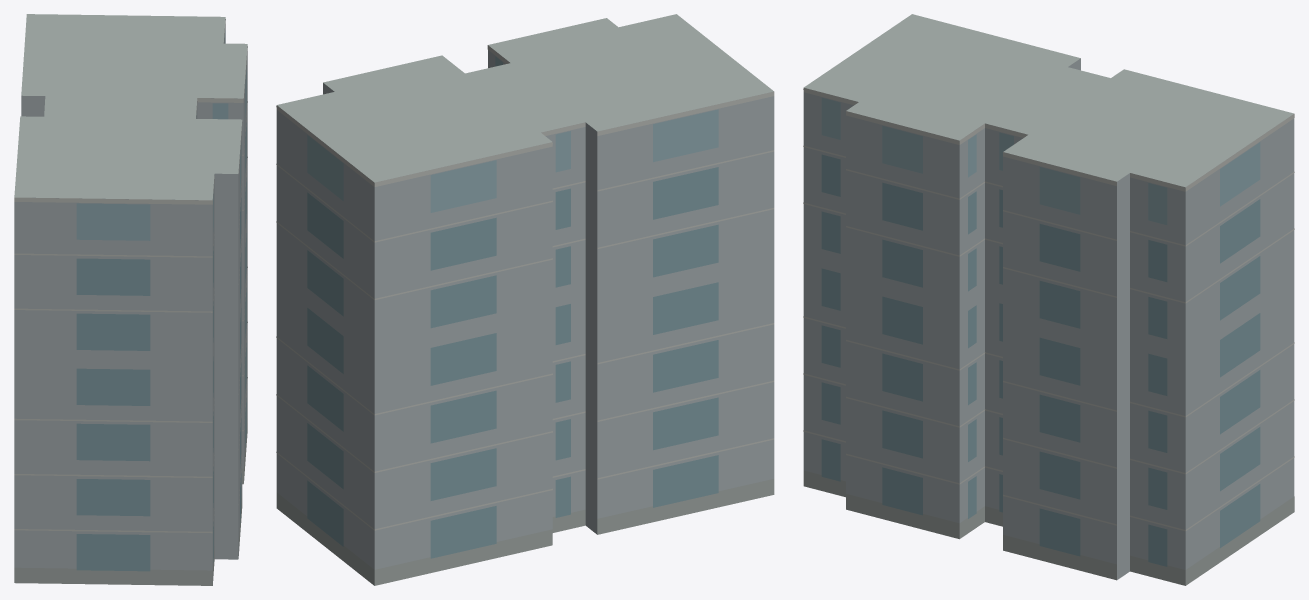
Rendered from survey-upis-32788299.glb.
3 views of the same model, side by side, from view 1: azimuth 30°, elevation 25°; view 2: azimuth 150°, elevation 25°; view 3: azimuth 270°, elevation 25° (orthographic). The views are drawn at different scales.
Visible parts, largest first — view 1: survey-upis-32788299.tmp; view 2: survey-upis-32788299.tmp; view 3: survey-upis-32788299.tmp.
Part boxes in pixels (<box>): survey-upis-32788299.tmp: <box>14,14,247,585</box>; survey-upis-32788299.tmp: <box>276,14,774,585</box>; survey-upis-32788299.tmp: <box>803,14,1294,585</box>.
Size of the model in its own units: 19.93 by 21.35 by 23.85.
